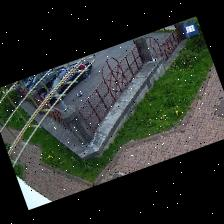person: (82, 72, 89, 81)
